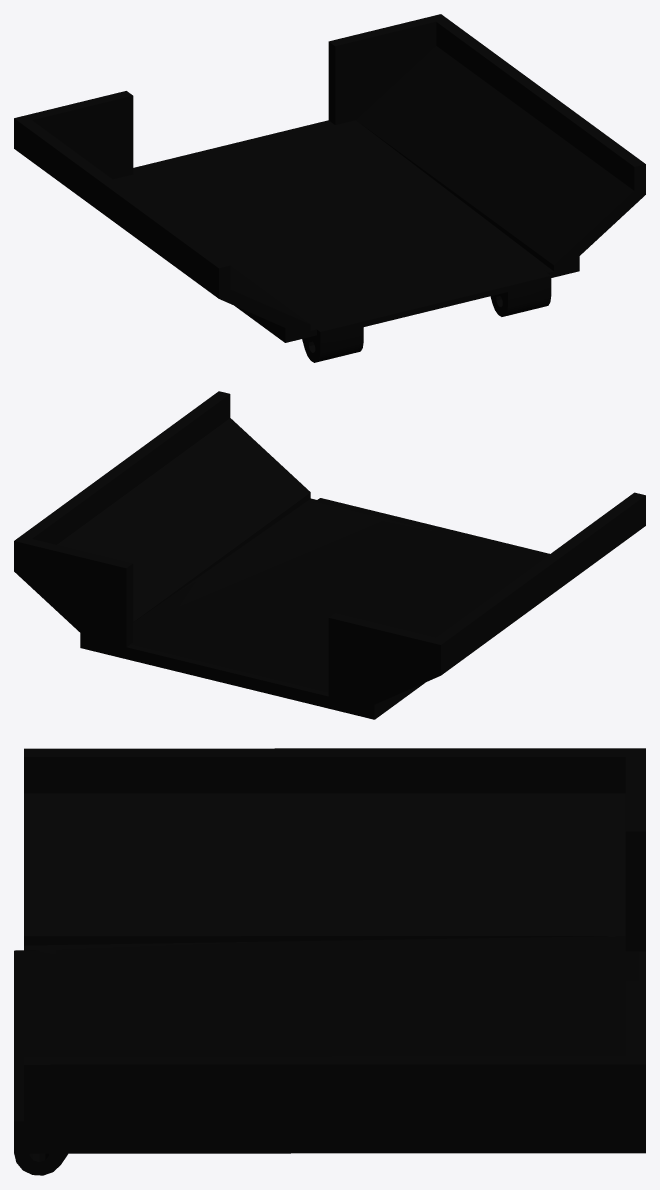
The model's file is kuzov.fbx.
3 renders of one model, top to bottom at view 1: azimuth 30°, elevation 25°; view 2: azimuth 150°, elevation 25°; view 3: azimuth 270°, elevation 25°, orthographic. The views are drawn at different scales.
Visible parts, largest first — view 1: kuzov.001; view 2: kuzov.001; view 3: kuzov.001.
Part boxes in pixels (x1=…): kuzov.001: x1=14, y1=14, x2=645, y2=362; kuzov.001: x1=14, y1=391, x2=645, y2=719; kuzov.001: x1=14, y1=748, x2=645, y2=1175.
Size of the model in its own units: 14.8 by 4.01 by 12.5.
1 material, 1 textured.
